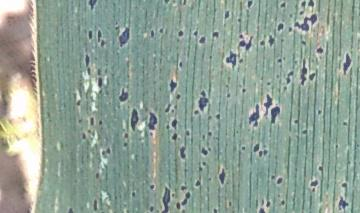tarspot: (293, 15, 318, 31), (249, 104, 260, 127), (118, 27, 130, 48), (300, 57, 308, 86), (342, 53, 352, 76), (162, 186, 170, 213), (225, 50, 237, 67), (199, 90, 208, 112), (263, 94, 272, 116), (130, 110, 139, 131), (147, 111, 157, 129), (338, 195, 349, 211), (271, 106, 280, 124), (218, 168, 226, 186), (119, 88, 128, 102), (168, 79, 177, 93), (181, 192, 190, 206), (286, 71, 294, 84), (179, 145, 186, 159), (268, 34, 275, 47), (92, 198, 99, 211), (88, 1, 98, 10), (198, 35, 207, 44), (238, 39, 247, 48), (315, 46, 325, 54), (308, 71, 316, 81), (276, 22, 284, 32), (309, 179, 319, 187), (341, 181, 348, 192), (97, 77, 103, 89), (252, 143, 260, 152), (171, 132, 178, 142), (194, 178, 201, 188), (172, 119, 178, 130), (88, 28, 93, 41), (97, 29, 102, 42), (85, 54, 90, 67), (247, 36, 252, 49), (201, 147, 208, 156), (212, 31, 220, 38), (165, 104, 171, 113), (149, 29, 155, 38), (247, 1, 253, 10), (258, 207, 267, 213), (94, 172, 100, 181), (225, 10, 230, 20), (177, 30, 184, 37), (301, 128, 308, 135), (260, 40, 267, 47), (308, 1, 315, 8), (201, 133, 207, 141), (215, 112, 221, 120), (226, 91, 232, 99), (263, 149, 269, 157), (342, 119, 348, 127), (277, 177, 283, 185), (185, 129, 190, 138), (90, 117, 95, 126), (193, 30, 199, 37), (100, 148, 106, 155), (241, 87, 247, 94), (300, 40, 307, 46), (301, 1, 307, 8), (106, 147, 111, 155), (237, 16, 242, 24), (266, 200, 271, 208), (176, 202, 181, 210), (87, 67, 91, 76), (207, 131, 213, 137), (266, 81, 272, 87), (318, 165, 324, 171), (281, 3, 287, 9), (299, 10, 305, 16), (207, 176, 213, 182), (149, 184, 155, 190), (207, 54, 213, 60), (279, 37, 285, 43), (97, 68, 102, 75), (87, 128, 92, 135), (283, 85, 288, 92), (288, 26, 293, 33), (281, 199, 286, 206), (181, 185, 188, 190), (67, 208, 74, 213), (82, 132, 86, 140), (261, 198, 265, 206), (228, 200, 232, 208), (124, 133, 129, 139), (149, 131, 154, 137), (166, 124, 171, 130), (176, 94, 182, 99), (77, 118, 82, 124), (258, 151, 263, 157), (294, 119, 299, 125), (317, 109, 322, 115), (276, 58, 282, 63), (239, 58, 244, 64), (239, 33, 244, 39), (213, 207, 218, 213), (131, 191, 136, 197), (101, 40, 105, 47), (77, 99, 81, 106), (242, 145, 246, 152), (194, 110, 199, 115), (198, 166, 203, 171), (289, 13, 294, 18), (271, 175, 276, 180), (181, 208, 186, 213), (179, 62, 183, 68), (160, 28, 164, 34), (164, 1, 170, 5), (208, 146, 212, 152), (172, 192, 176, 198), (124, 142, 128, 147), (99, 120, 103, 125), (203, 161, 207, 166), (208, 115, 212, 120), (276, 74, 280, 79), (335, 144, 339, 149), (312, 187, 316, 192), (150, 206, 153, 212), (183, 1, 187, 5), (172, 109, 175, 113)
